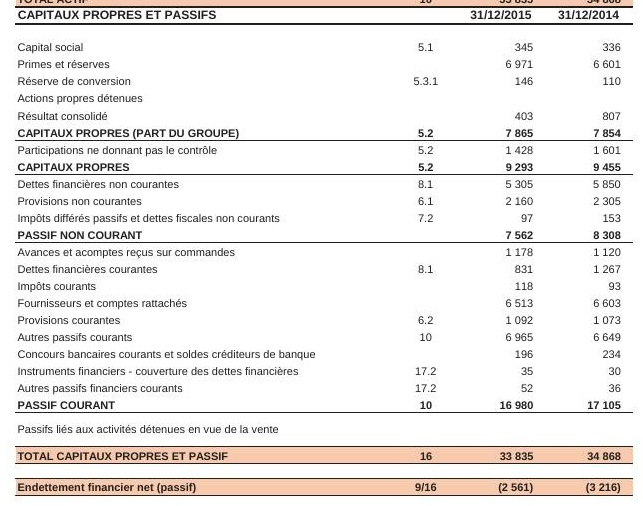table: (0, 0, 643, 506)
